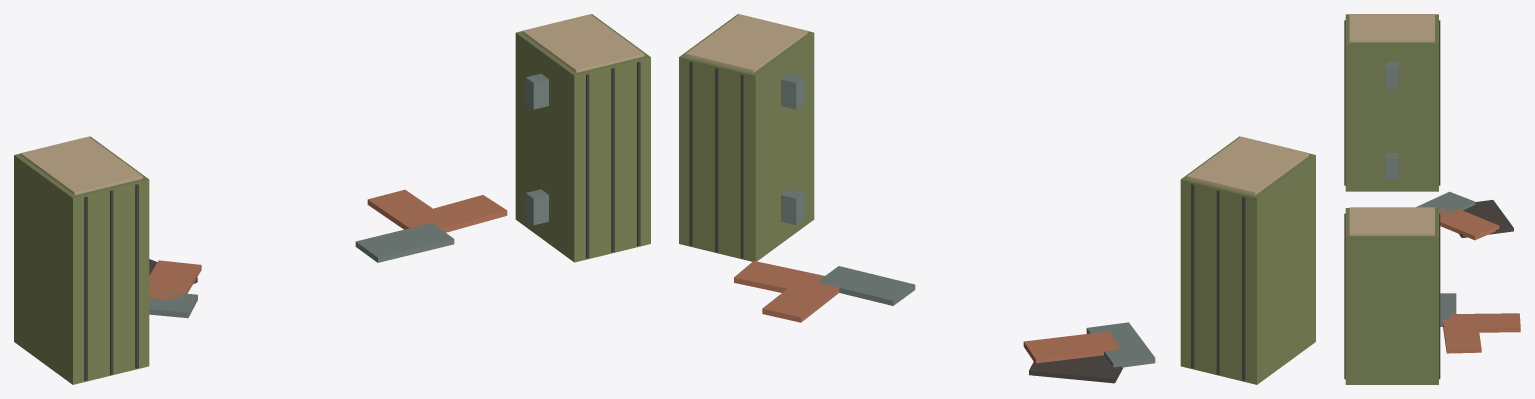
The model's file is SM_PuertaVia_v2_Tablones_e3_Brecha_LOD0.fbx.
3 renders of one model, left to right at view 1: azimuth 30°, elevation 25°; view 2: azimuth 150°, elevation 25°; view 3: azimuth 270°, elevation 25°, orthographic. The views are drawn at different scales.
Parts seen in each view (by area): view 1: SM_bloques.puerta_via_v11_LOD0, Hoja_E; view 2: SM_bloques.puerta_via_v11_LOD0, Hoja_E; view 3: SM_bloques.puerta_via_v11_LOD0, Hoja_O.
Part boxes in pixels (<box>): SM_bloques.puerta_via_v11_LOD0: <box>14,14,650,384</box>; Hoja_E: <box>525,73,548,225</box>; SM_bloques.puerta_via_v11_LOD0: <box>679,14,1315,384</box>; Hoja_E: <box>781,73,804,225</box>; SM_bloques.puerta_via_v11_LOD0: <box>1344,14,1520,384</box>; Hoja_O: <box>1386,61,1398,179</box>.
Size of the model in its own units: 6.8 by 2.13 by 2.28.
